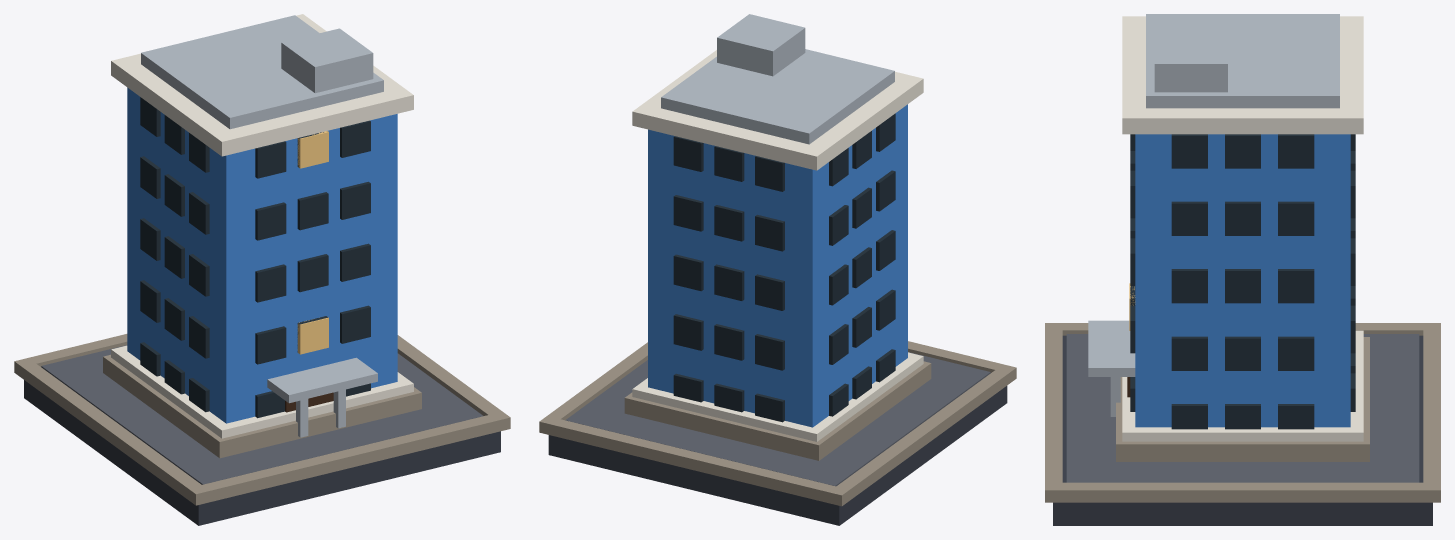
File: city.finance_center.glb
3 renders of one model, left to right at view 1: azimuth 30°, elevation 25°; view 2: azimuth 150°, elevation 25°; view 3: azimuth 270°, elevation 25°, orthographic. The views are drawn at different scales.
Visible parts, largest first — view 1: city.finance_center; view 2: city.finance_center; view 3: city.finance_center.
Boxes of the visible parts, x1,y1,x2,y2 form: city.finance_center: [14, 14, 510, 525]; city.finance_center: [539, 14, 1016, 525]; city.finance_center: [1045, 14, 1440, 525].
Bounding box in the file's own units: 2.02 × 2.36 × 2.02.
